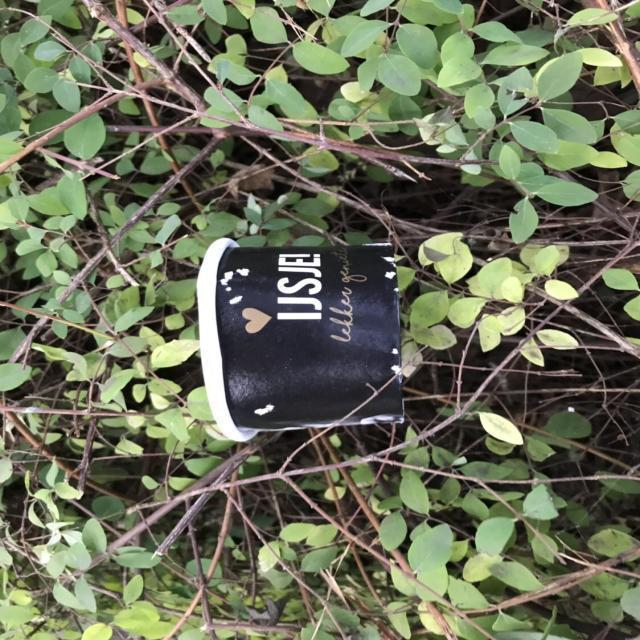Paper: (194, 238, 406, 440)
